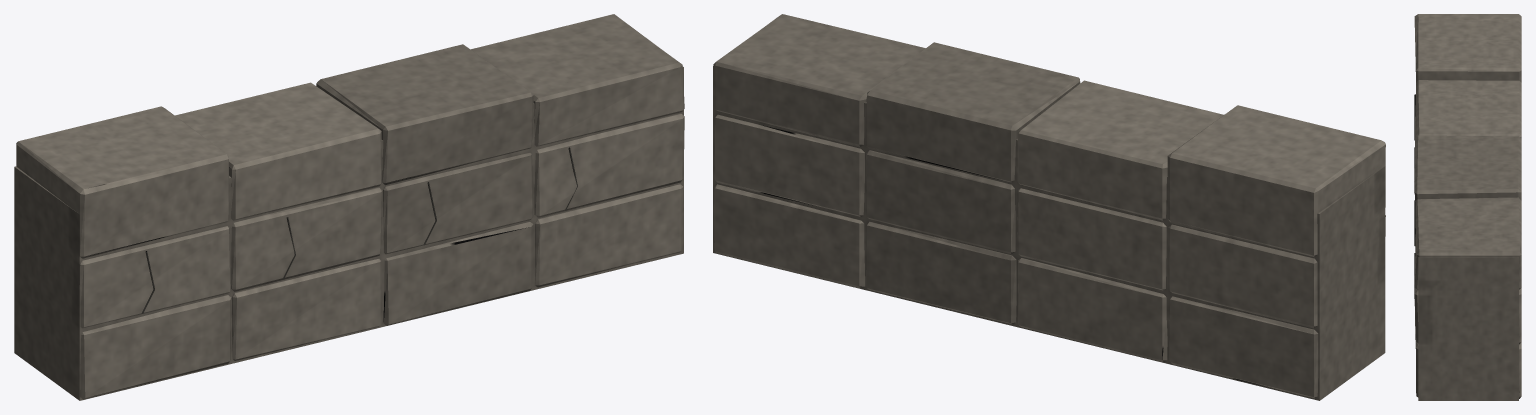
Rendered from arena-low-wall.glb.
The picture shows the model from 3 angles, left to right: view 1: azimuth 30°, elevation 25°; view 2: azimuth 150°, elevation 25°; view 3: azimuth 270°, elevation 25°; orthographic projection. The views are drawn at different scales.
Visible parts, largest first — view 1: arena-low-wall; view 2: arena-low-wall; view 3: arena-low-wall.
Boxes of the visible parts, left/top/right/bottom form: arena-low-wall: left=14, top=14, right=684, bottom=400; arena-low-wall: left=713, top=14, right=1385, bottom=400; arena-low-wall: left=1414, top=14, right=1521, bottom=400.
Bounding box in the file's own units: 3 × 1 × 0.6.
1 material, 1 textured.
